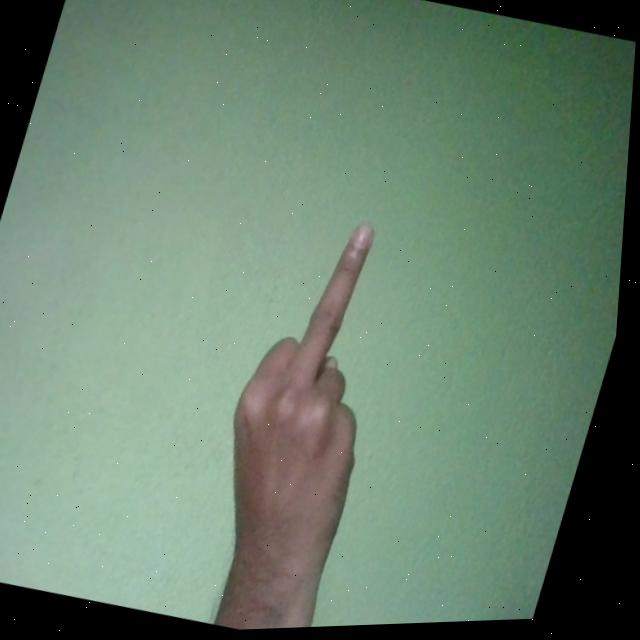Middle Finger: (183, 207, 428, 634)
